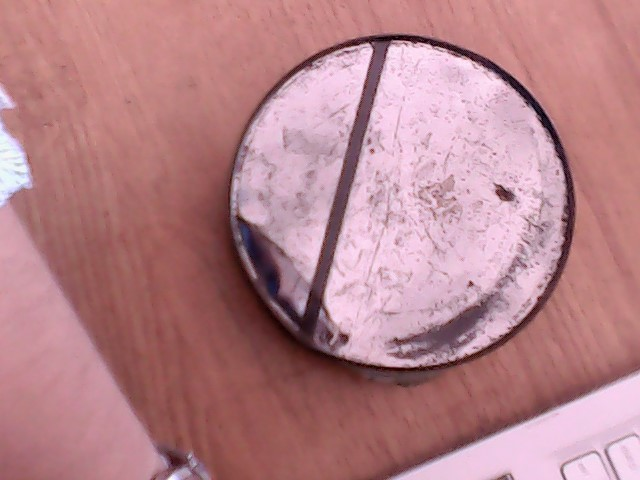Metal: (202, 28, 631, 368)
